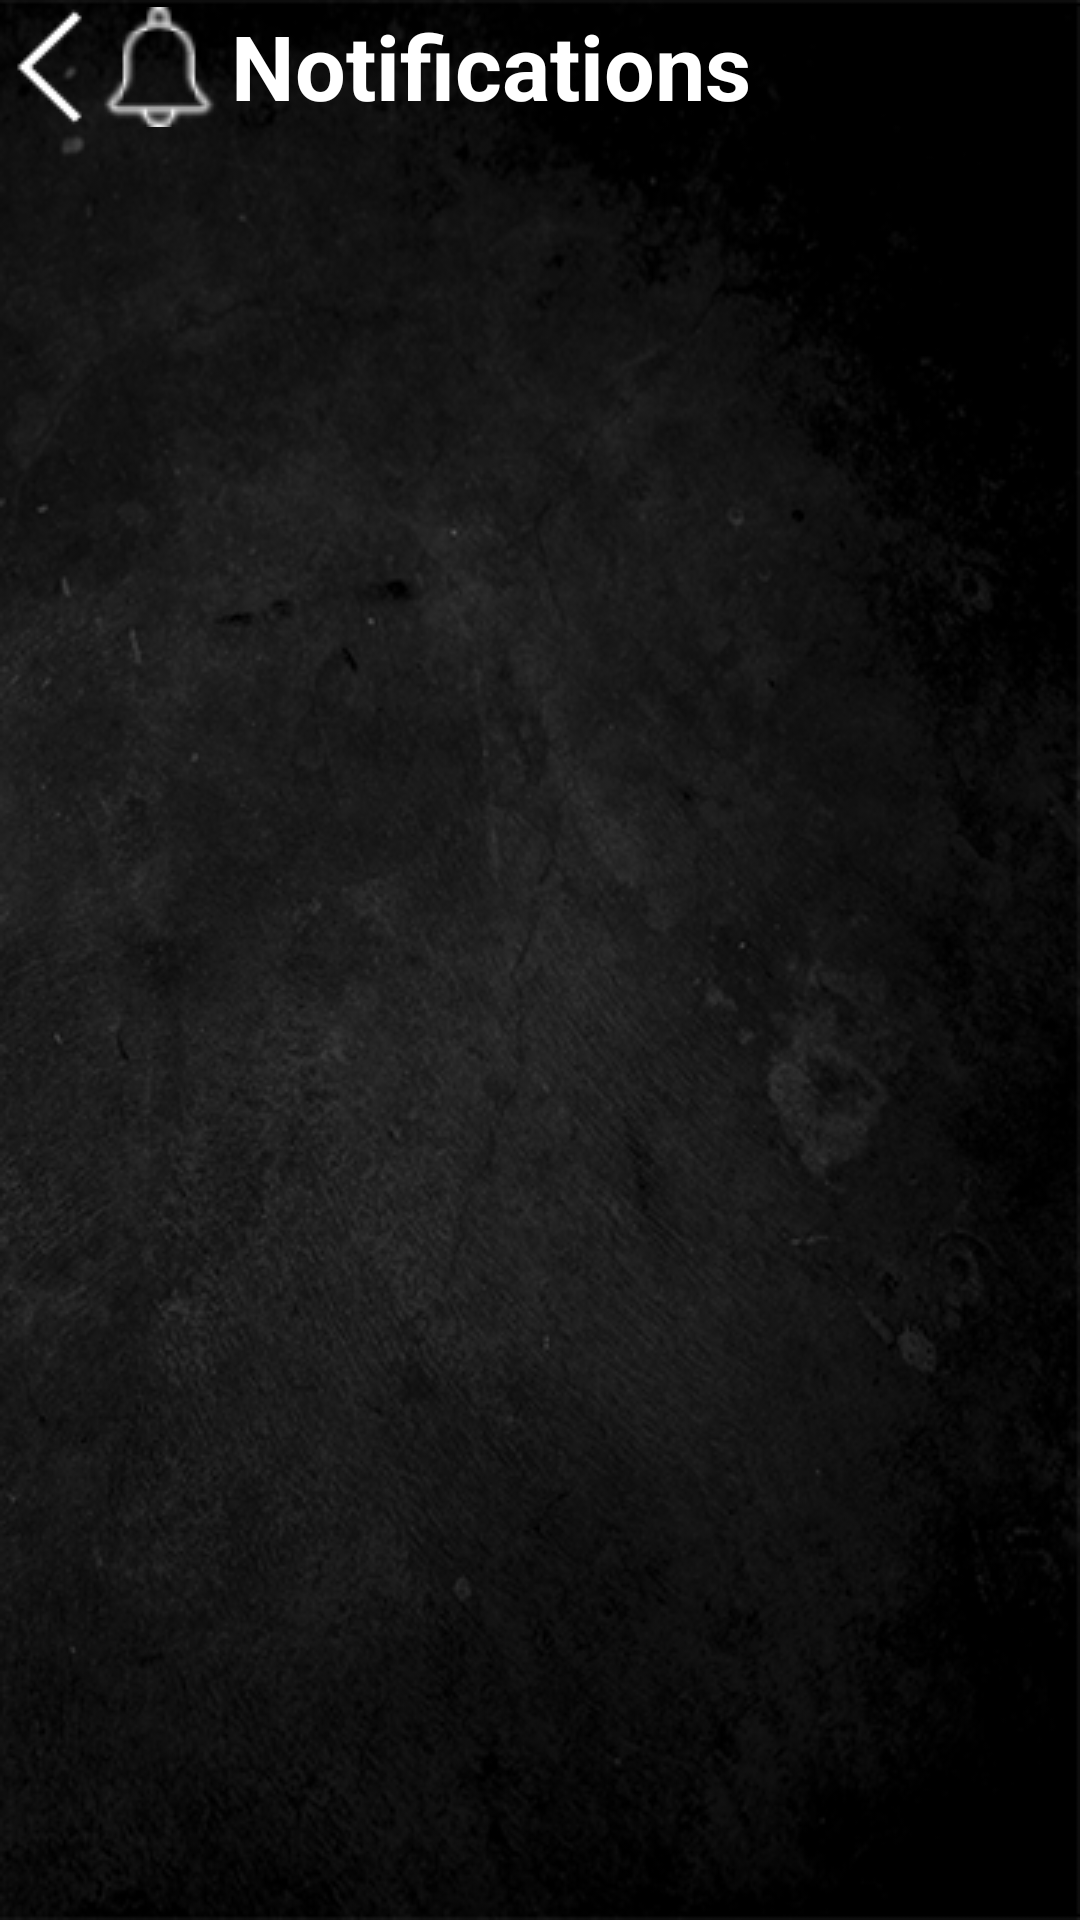

Where to tap for icons on this 1080px x 1920px app screen, as point (x, y):
backbutton: point (49, 67)
bell: point (157, 67)
